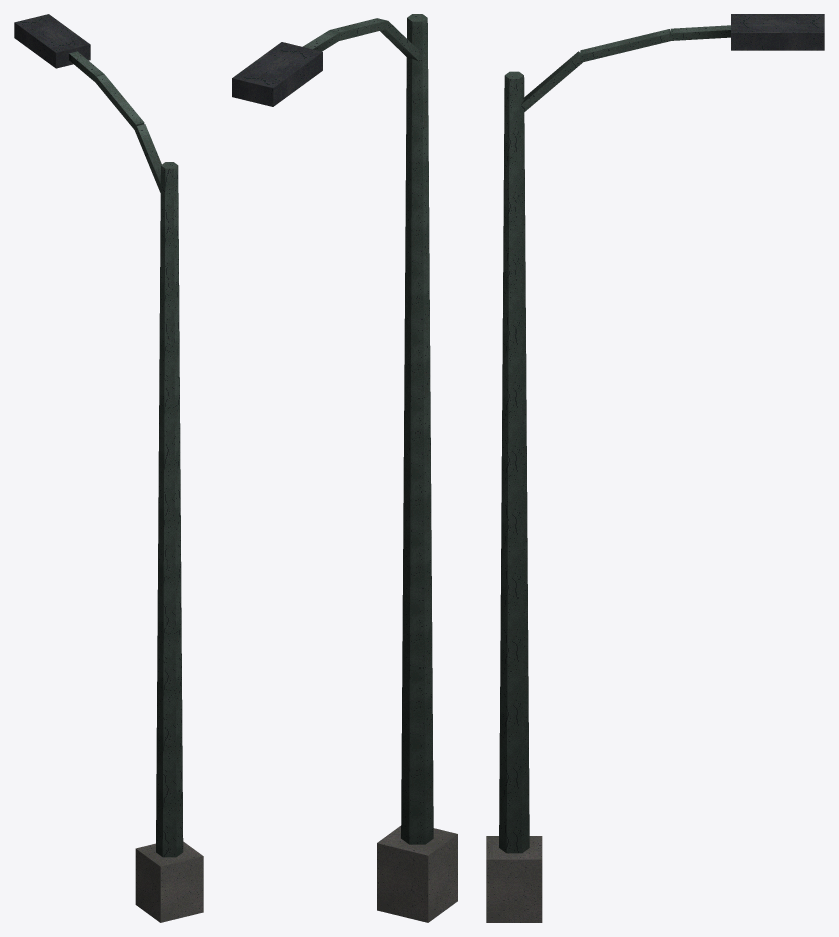
File: streetlight.glb
The picture shows the model from 3 angles, left to right: view 1: azimuth 30°, elevation 25°; view 2: azimuth 150°, elevation 25°; view 3: azimuth 270°, elevation 25°; orthographic projection. The views are drawn at different scales.
Visible parts, largest first — view 1: streetlight_metal_paint, streetlight_concrete_dark, streetlight_metal_dark; view 2: streetlight_metal_paint, streetlight_concrete_dark, streetlight_metal_dark; view 3: streetlight_metal_paint, streetlight_concrete_dark, streetlight_metal_dark.
Part boxes in pixels (x1,y1,x2,y2): streetlight_metal_paint: (69, 51, 183, 857); streetlight_concrete_dark: (135, 841, 203, 922); streetlight_metal_dark: (14, 14, 90, 68); streetlight_metal_paint: (302, 14, 433, 844); streetlight_concrete_dark: (377, 826, 457, 922); streetlight_metal_dark: (232, 42, 322, 106); streetlight_metal_paint: (499, 25, 730, 853); streetlight_concrete_dark: (486, 836, 542, 922); streetlight_metal_dark: (731, 14, 824, 50).
Size of what is drawn, in the model's own units: 0.4 by 7.01 by 2.42.
4 materials, 4 textured.
